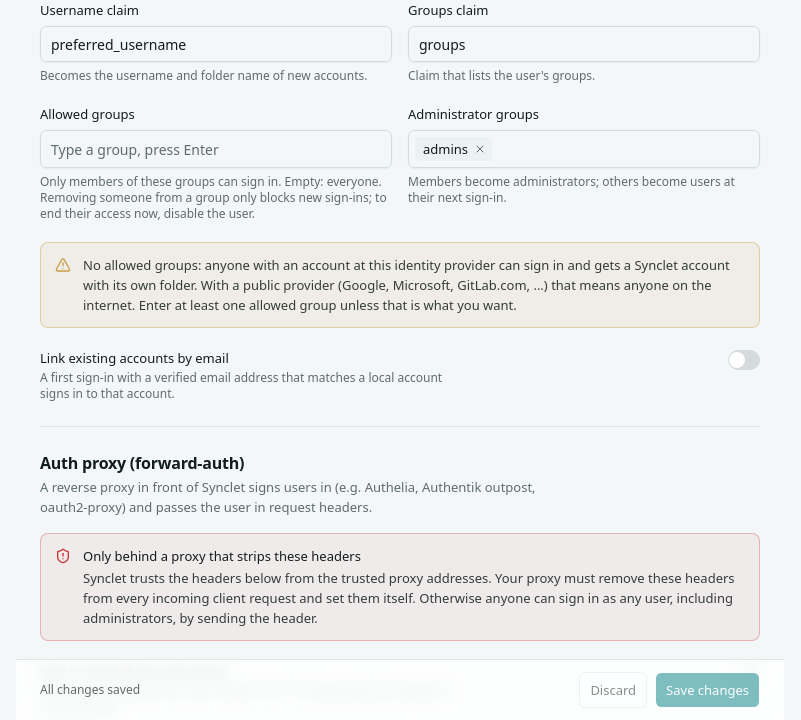
Test: warns when linking by email is turned on
(page scrolled)
Click the switch named "Link existing accounts by email" at (744, 360), box [728,350,760,370]
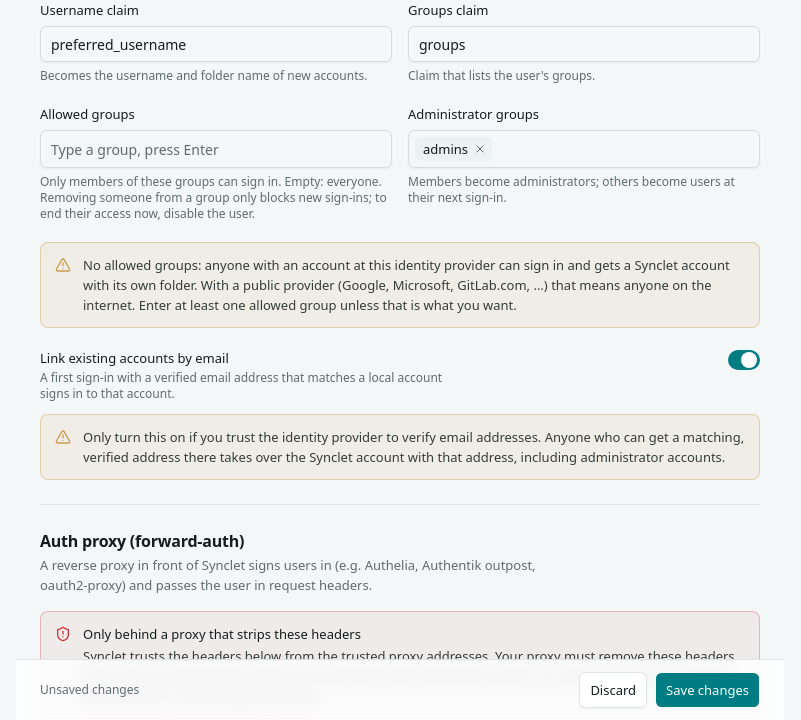
expect the text "takes over the Synclet account" is shown: met, box [83,428,744,466]
